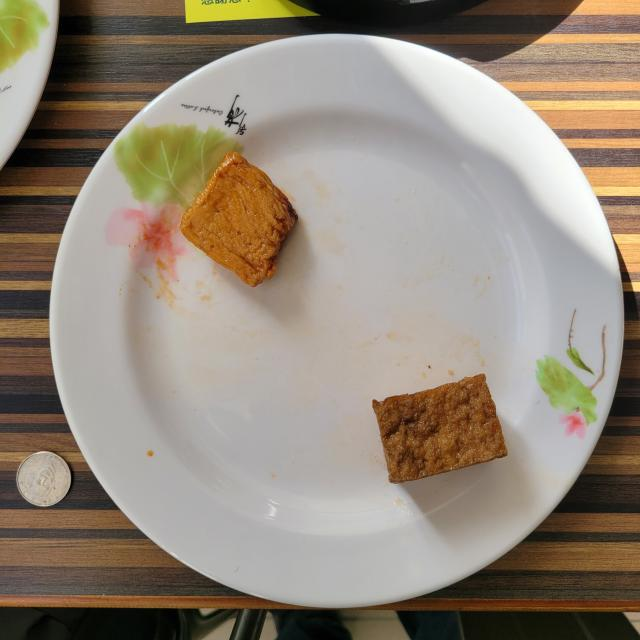coin: (16, 451, 71, 506)
creamy tofu: (180, 152, 298, 286)
egg tofu: (372, 374, 508, 484)
